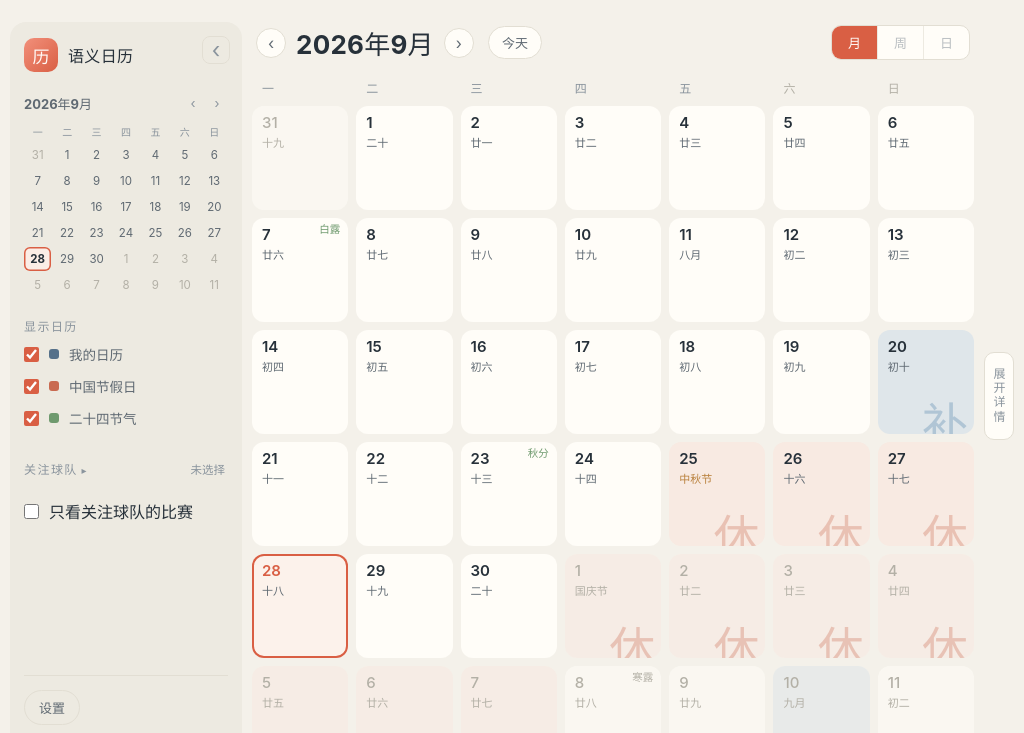
it: 本地通知与提醒调度（SC-017 / NOTIFY-001–004） › 浏览器预览模式：说明系统通知需要桌面环境
Click the button "设置": [52, 707] box left=24, top=690, right=80, bottom=725
(page scrolled)
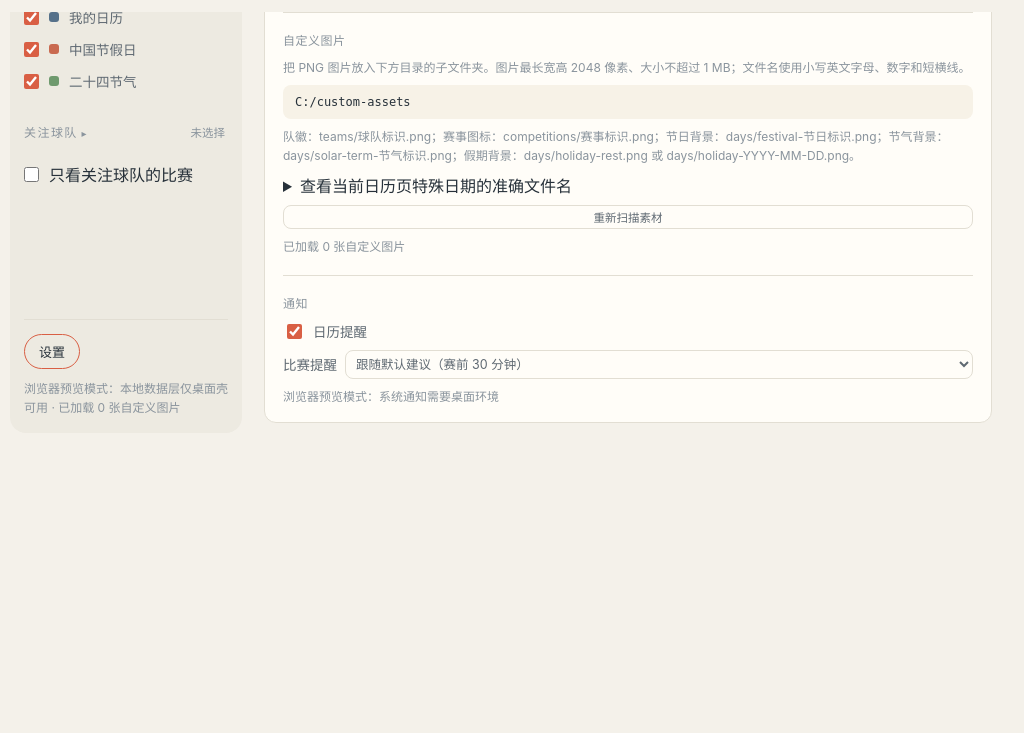
Expected: the text "浏览器预览模式：系统通知需要桌面环境" is shown, left=283, top=389, right=499, bottom=404
